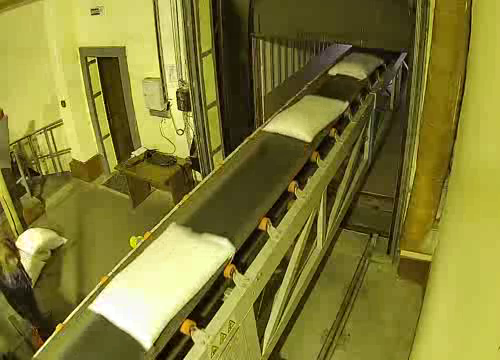bag: (79, 215, 251, 354), (254, 91, 356, 147), (322, 49, 386, 83)
